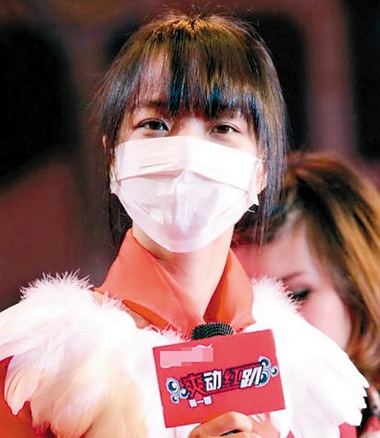face: (225, 215, 346, 390)
face_mask: (118, 50, 257, 254)
